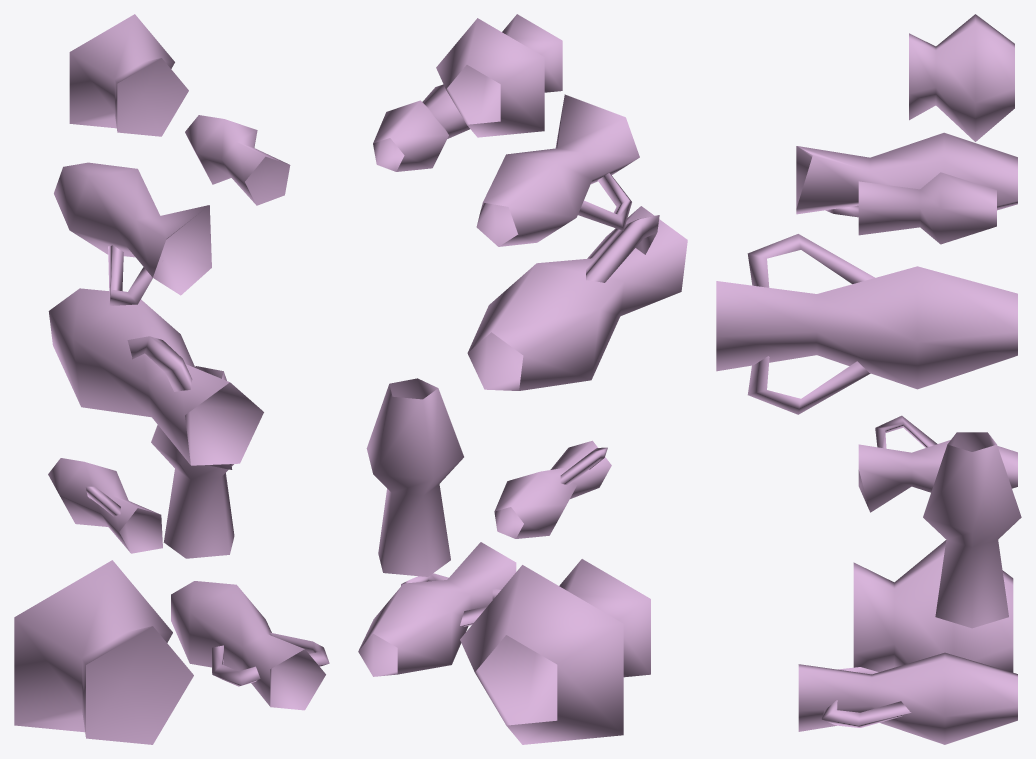
3 views of the same model, side by side, from view 1: azimuth 30°, elevation 25°; view 2: azimuth 150°, elevation 25°; view 3: azimuth 270°, elevation 25° (orthographic). The views are drawn at different scales.
Visible parts, largest first — view 1: Object121; view 2: Object121; view 3: Object121.
Boxes of the visible parts, bbox=[...] form: Object121: bbox=[14, 14, 329, 744]; Object121: bbox=[358, 14, 687, 744]; Object121: bbox=[716, 14, 1021, 744].
Size of the model in its own units: 10193 by 26131 by 10052.
